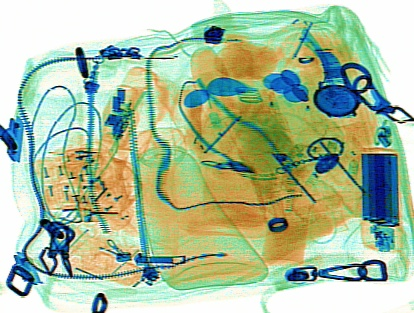powerbank: (356, 144, 400, 252)
pressure: (132, 125, 268, 290)
